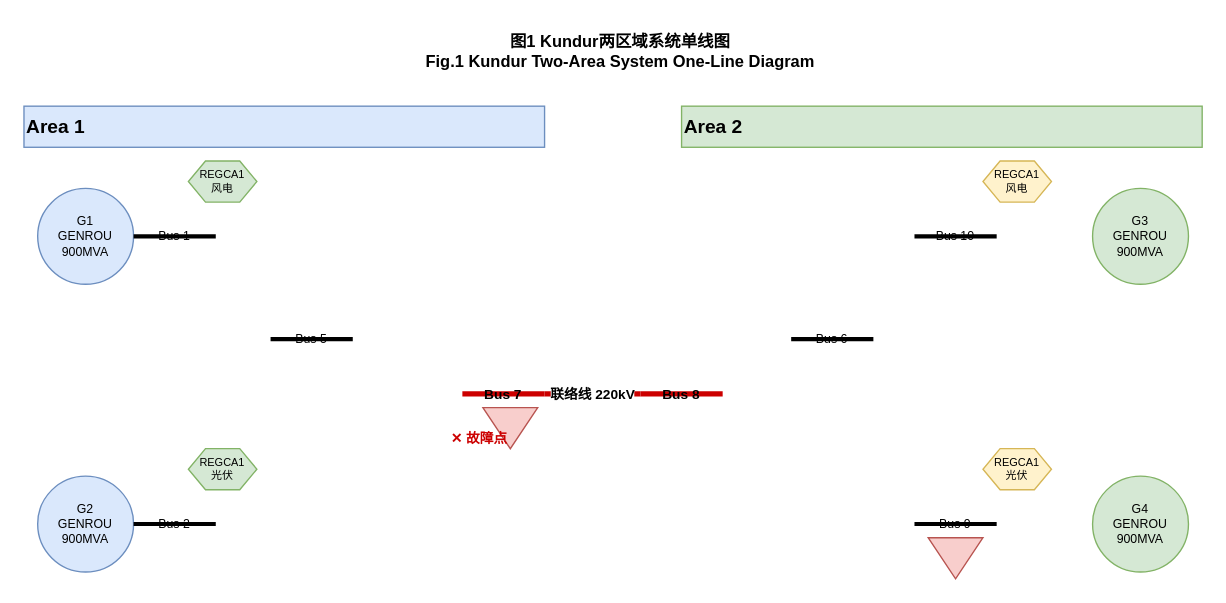
Some shapes in this 1226 by 603 pixel diagram are drawn without their labels. Here are the shapes that lost their labels. From the top down, the box of each, then its label:
(482, 406, 538, 449): Load 967MW
(927, 536, 983, 579): Load 1767MW
